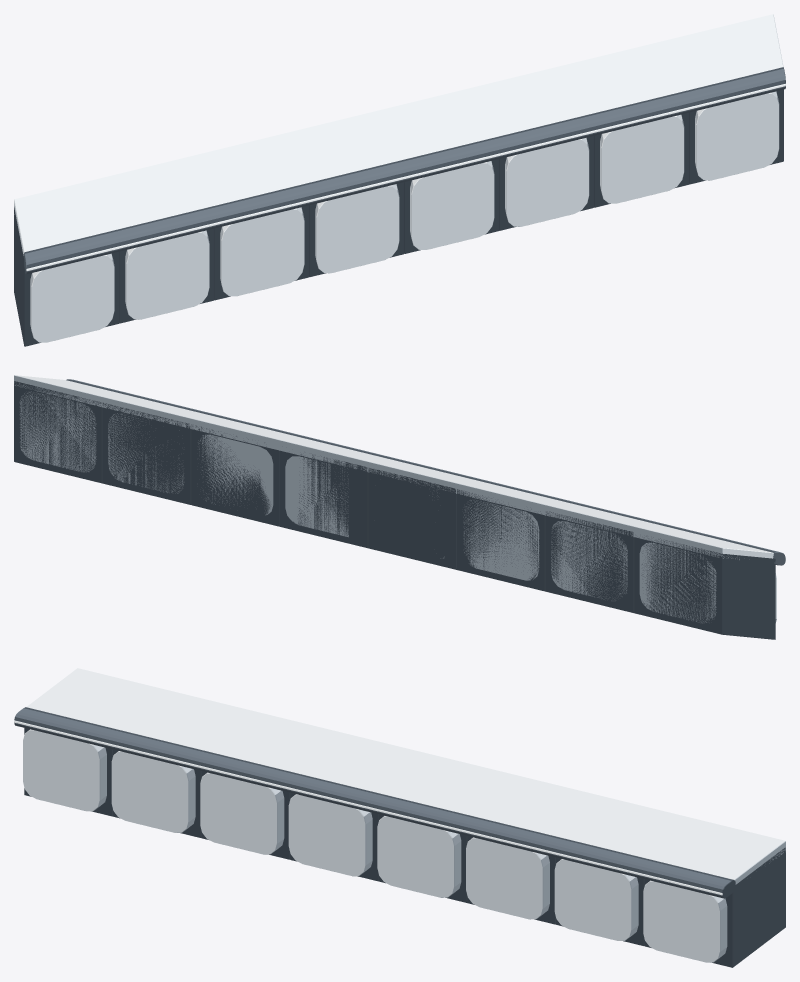
Rendered from Terrain_TopRun8.gltf.
3 views of the same model, one above another, from view 1: azimuth 30°, elevation 25°; view 2: azimuth 150°, elevation 25°; view 3: azimuth 330°, elevation 25° (orthographic). The views are drawn at different scales.
Parts seen in each view (by area): view 1: Terrain_TopRun8_baked; view 2: Terrain_TopRun8_baked; view 3: Terrain_TopRun8_baked.
Boxes of the visible parts, bbox=[...] form: Terrain_TopRun8_baked: bbox=[14, 14, 785, 346]; Terrain_TopRun8_baked: bbox=[14, 375, 785, 639]; Terrain_TopRun8_baked: bbox=[14, 668, 785, 967].
Size of the model in its own units: 8.29 by 1.18 by 0.74.
